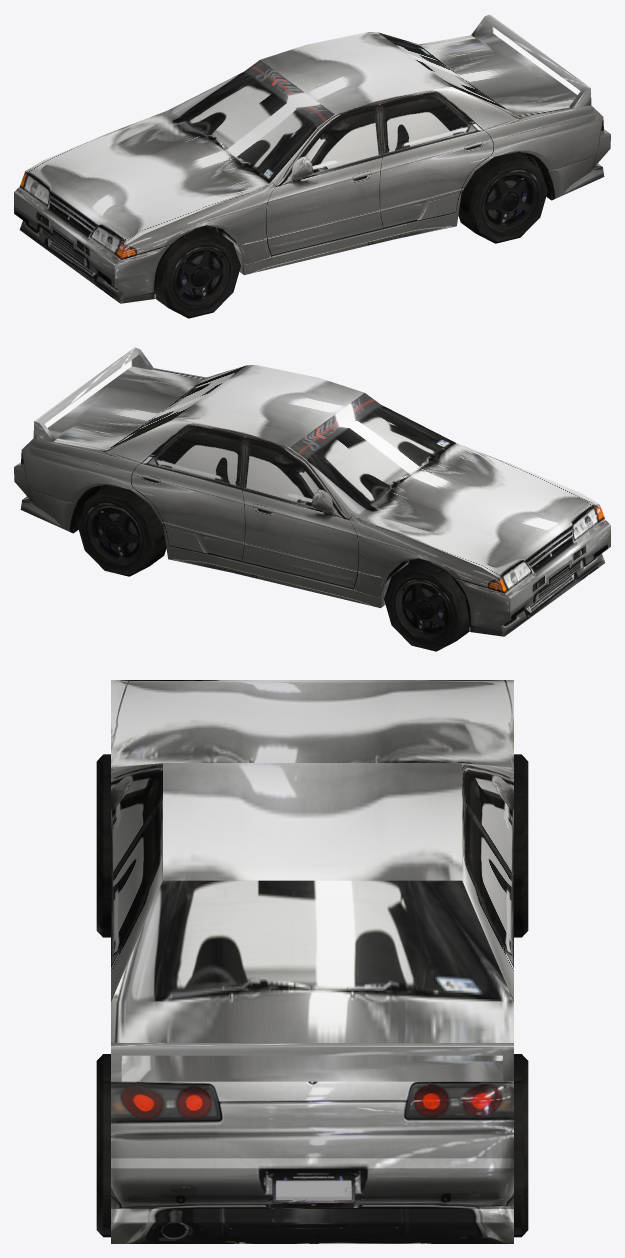
File: Mesh_GTR_Full.fbx
3 renders of one model, top to bottom at view 1: azimuth 30°, elevation 25°; view 2: azimuth 150°, elevation 25°; view 3: azimuth 270°, elevation 25°, orthographic. The views are drawn at different scales.
Parts seen in each view (by area): view 1: Cylinder; view 2: Cylinder; view 3: Cylinder.
Part boxes in pixels (x1,y1,x2,y2): Cylinder: (14, 14, 610, 318); Cylinder: (14, 347, 610, 651); Cylinder: (96, 680, 528, 1243).
Size of the model in its own units: 881 by 268 by 332.
Materials: 1 (1 with a texture image).
